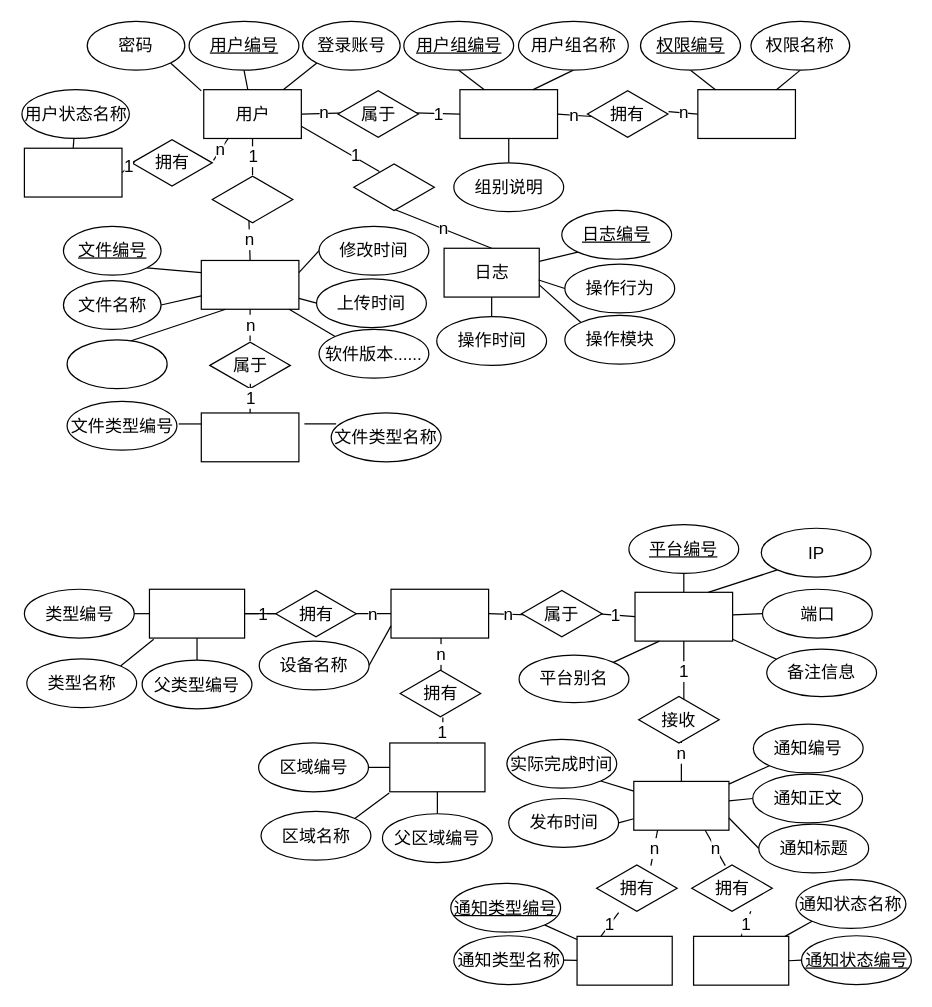
The diagram is 932 pixels wide and 1007 high, and some of its shapes have lost their labels. Here are the shapes that lost their labels. From the top down, the centre of each, then its label:
At point 508,113: "用户组".
At point 746,113: "权限".
At point 72,172: "用户状态".
At point 393,187: "产生".
At point 252,199: "操作".
At point 249,284: "文件".
At point 116,364: "文件链接".
At point 249,437: "文件类型".
At point 196,613: "设备类型".
At point 439,613: "设备".
At point 683,616: "一级平台".
At point 437,767: "区域".
At point 681,805: "通知".
At point 624,960: "通知类型".
At point 740,960: "通知状态".
